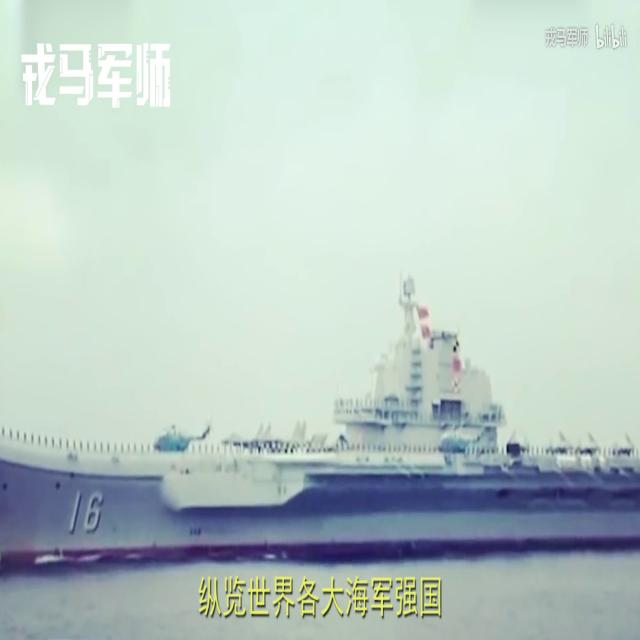navalvessels: (1, 259, 640, 580)
